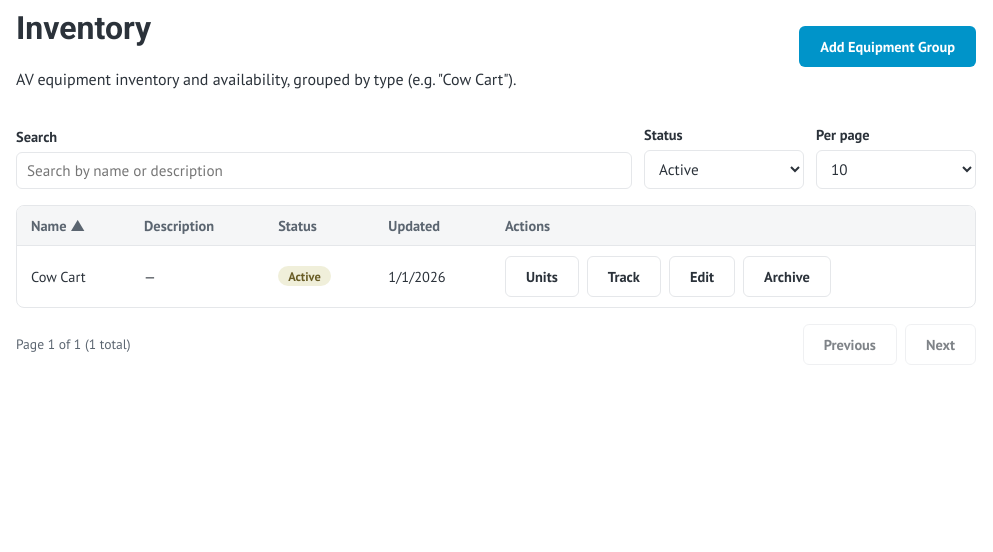
it: shows an empty state when nothing in the group is booked that day
What coordinates should you click on to do the following:
click the button "Track"
I would click on:
 (624, 276)
Its box is top-left (587, 256), bottom-right (661, 297).
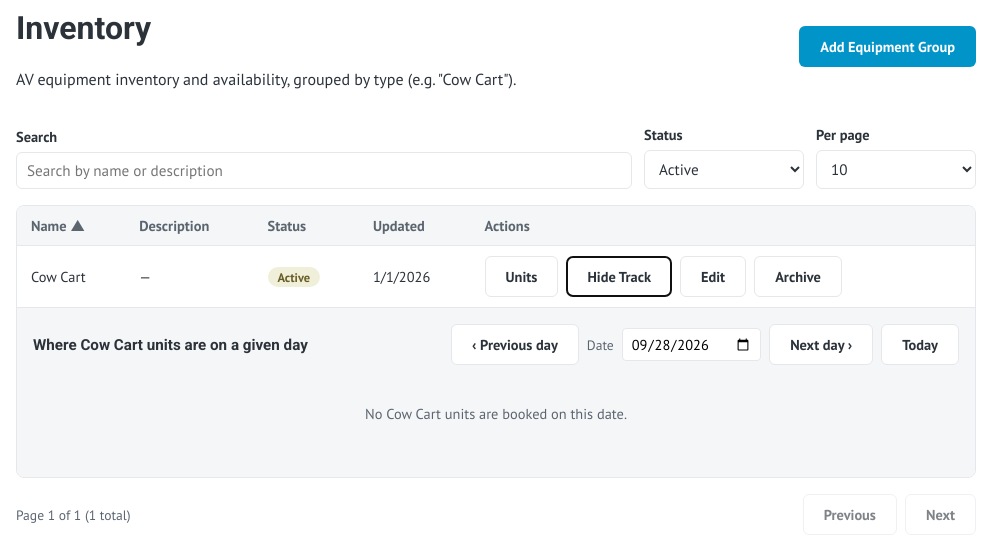
Now the text "No Cow Cart units are booked on this date." is shown, box top-left (365, 404), bottom-right (627, 423)
